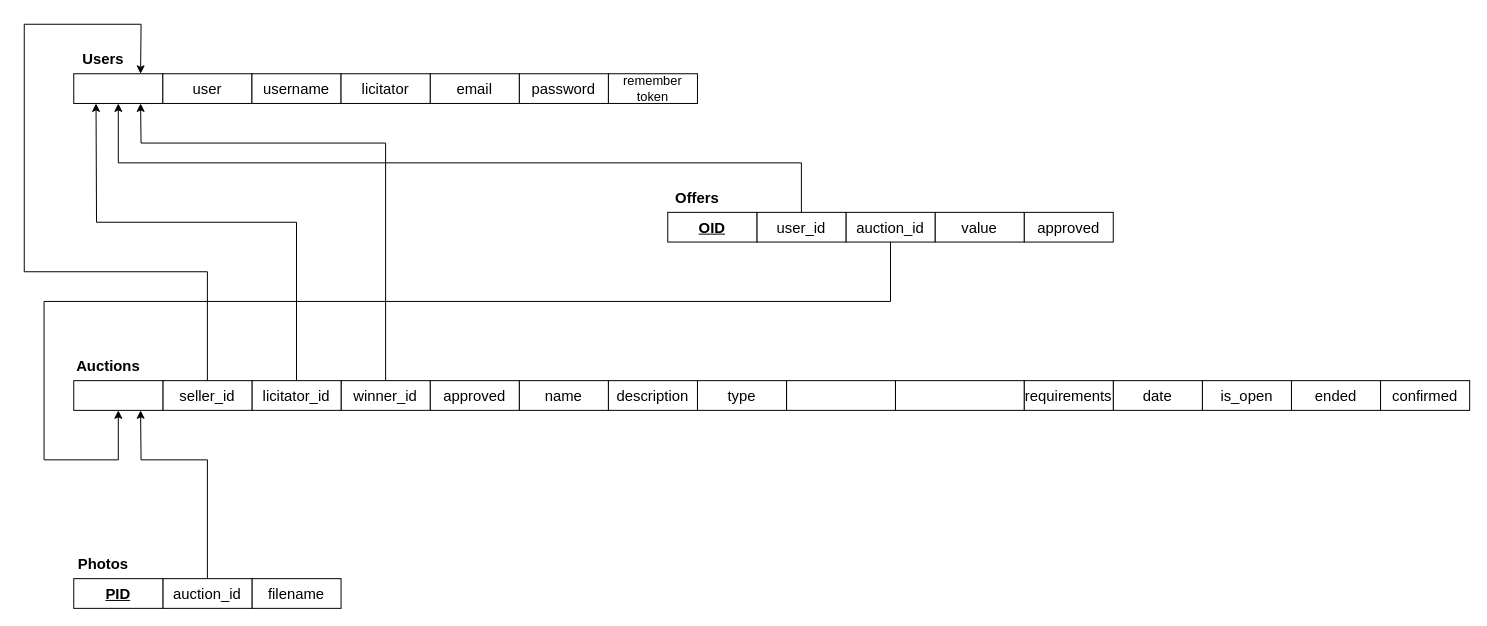
The diagram is 1487 pixels wide and 626 high, and some of its shapes have lost their labels. Each missing label, with the centre of its shape:
"AID" goes at point 118,395.
"minimum_wager" goes at point 959,395.
"starting_price" goes at point 840,395.
"UID" goes at point 118,88.
